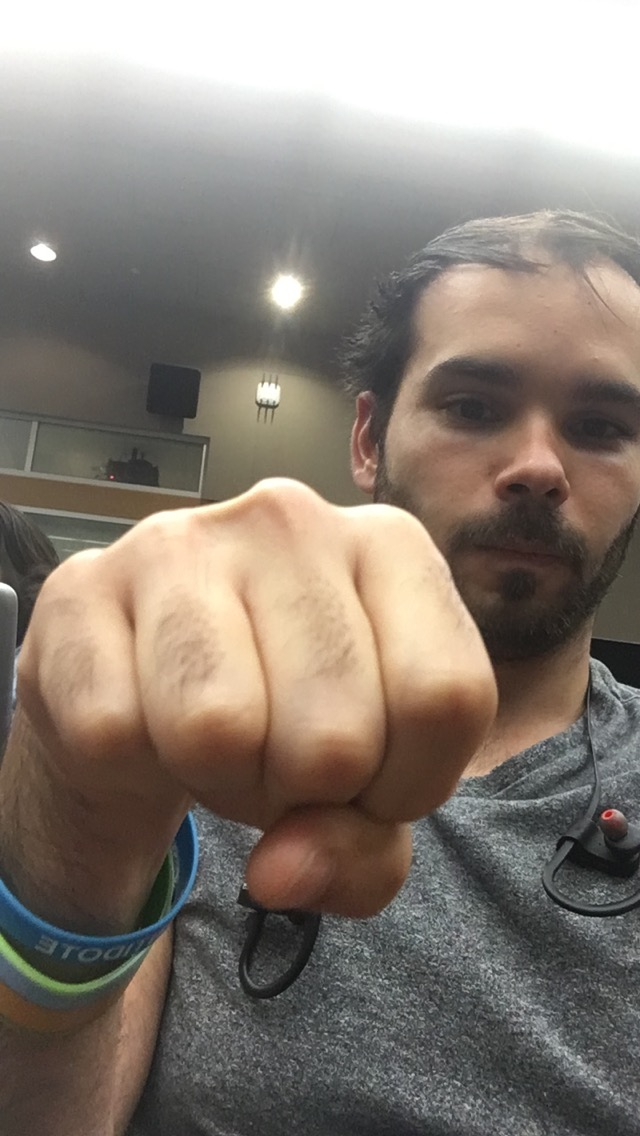defaultd: (16, 475, 500, 919)
